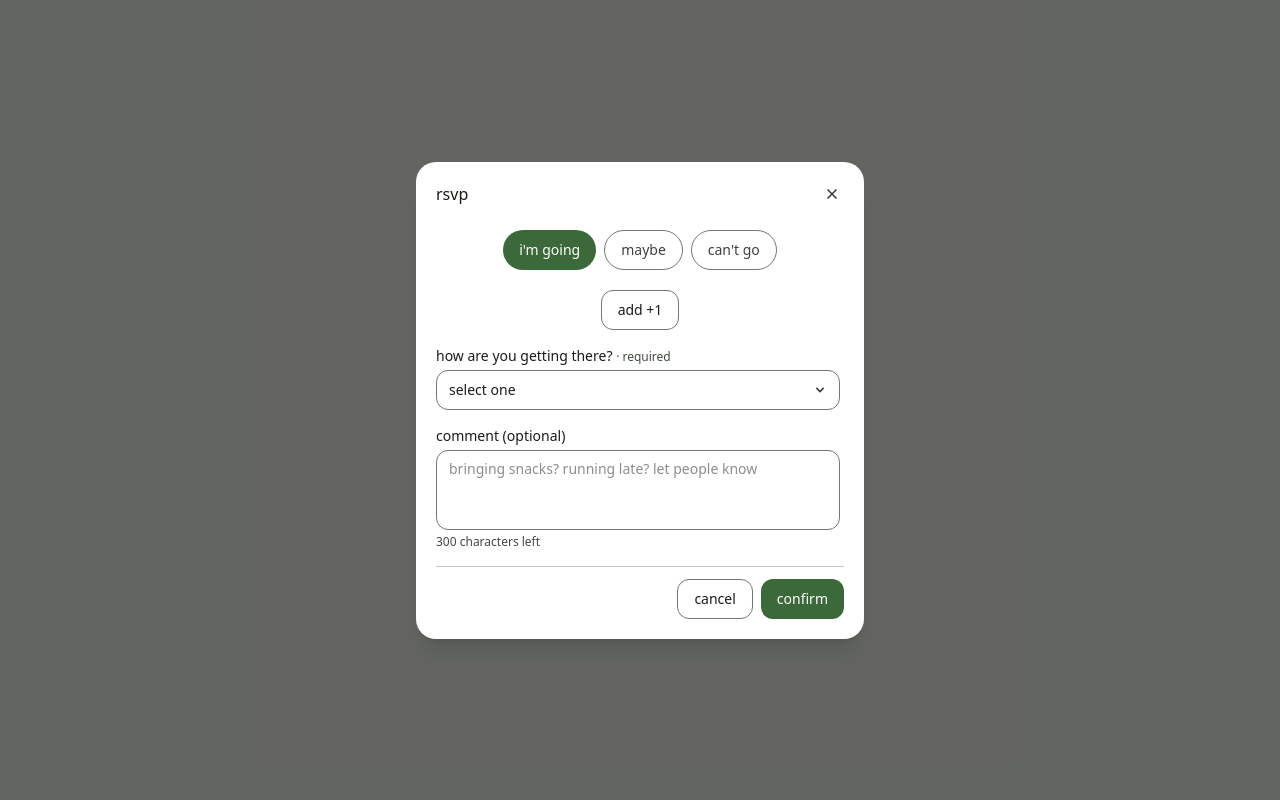
Test case: RsvpBox › should hide questions when status is maybe
This screenshot has width=1280, height=800.
Click the button "maybe". click: (644, 250)
box: [604,230,683,270]
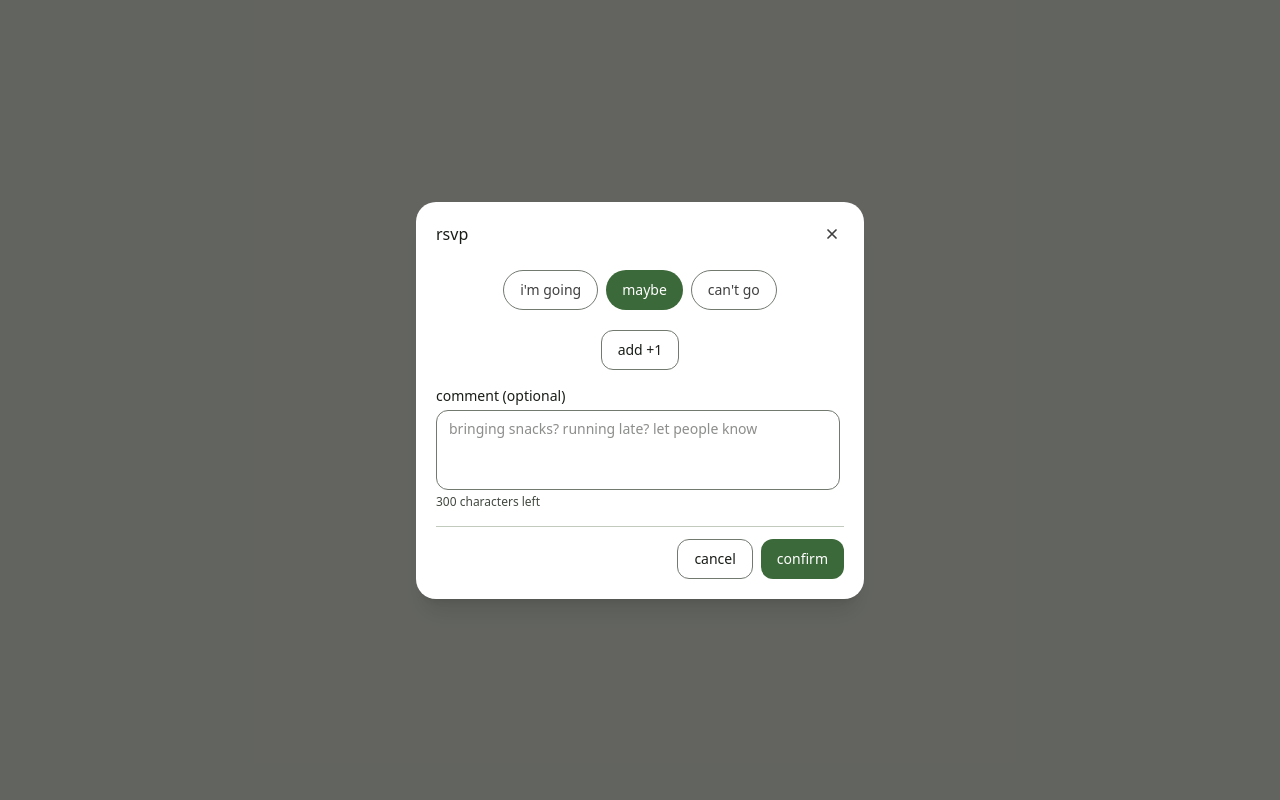
Expected: the text "how are you getting there?" is gone
